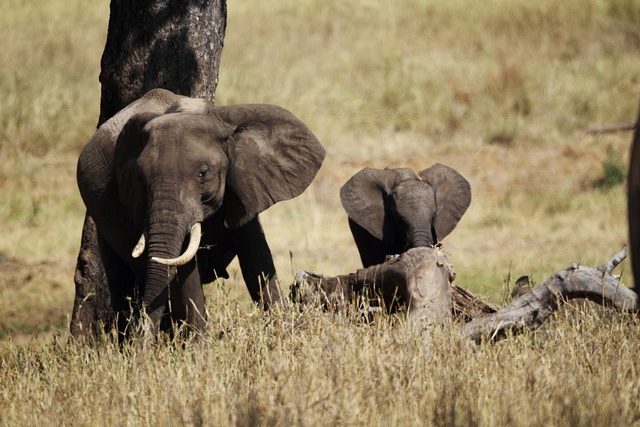elephant: (76, 87, 327, 358), (340, 162, 472, 269)
